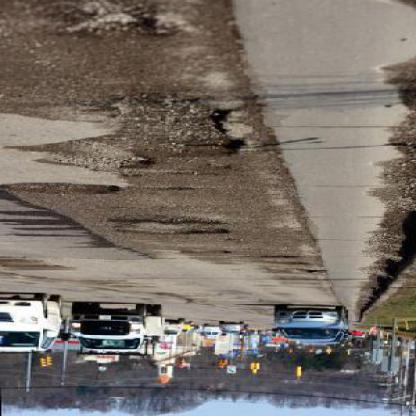pothole: (115, 91, 251, 161), (58, 9, 171, 42), (55, 141, 156, 173), (108, 211, 230, 228), (3, 182, 129, 198), (119, 232, 232, 238), (180, 249, 237, 257)
